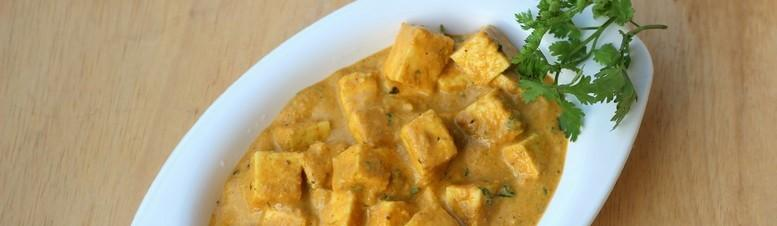ShahiPaneer: (217, 21, 572, 226)
